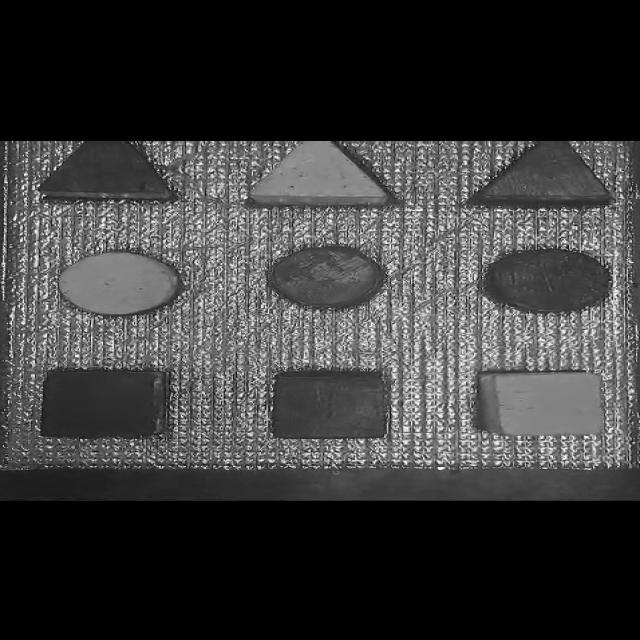bcircle: (464, 239, 614, 319), (48, 248, 196, 324), (260, 244, 400, 320)
bcube: (266, 361, 404, 449)
btriangle: (41, 143, 182, 213)
rcube: (33, 368, 174, 446)
rtriangle: (459, 135, 623, 218)
ycube: (468, 365, 616, 447)
ytriangle: (224, 143, 414, 214)
